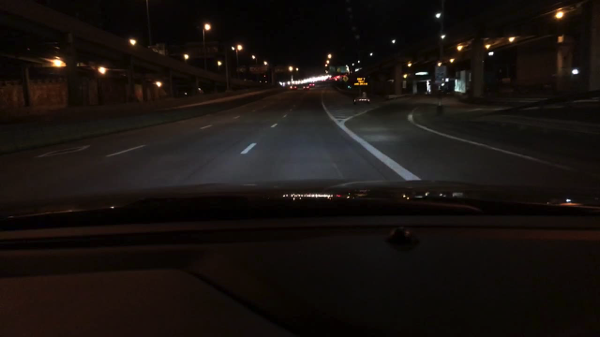car: (353, 91, 371, 105), (308, 82, 316, 88), (290, 85, 297, 91), (302, 86, 310, 91)
traffic sign: (187, 42, 217, 57), (249, 65, 268, 75), (353, 75, 368, 86), (335, 66, 348, 74), (274, 66, 288, 72), (236, 66, 245, 73), (328, 66, 336, 73), (343, 75, 348, 83)
